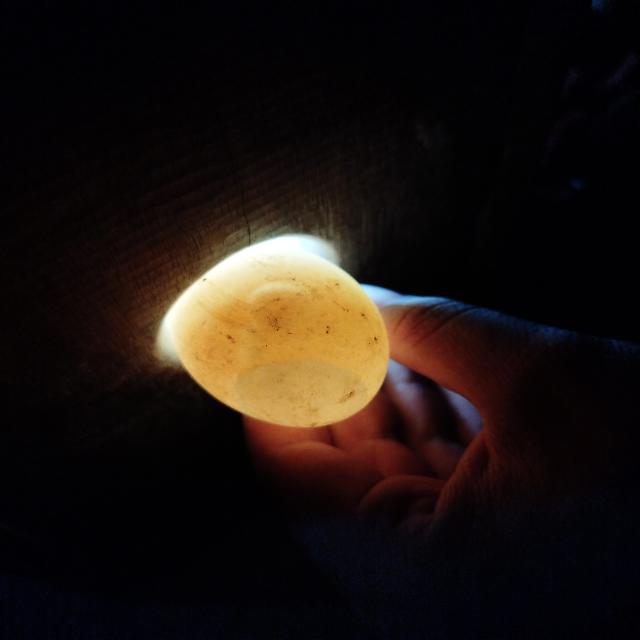Camara de Ar: (233, 361, 377, 427)
